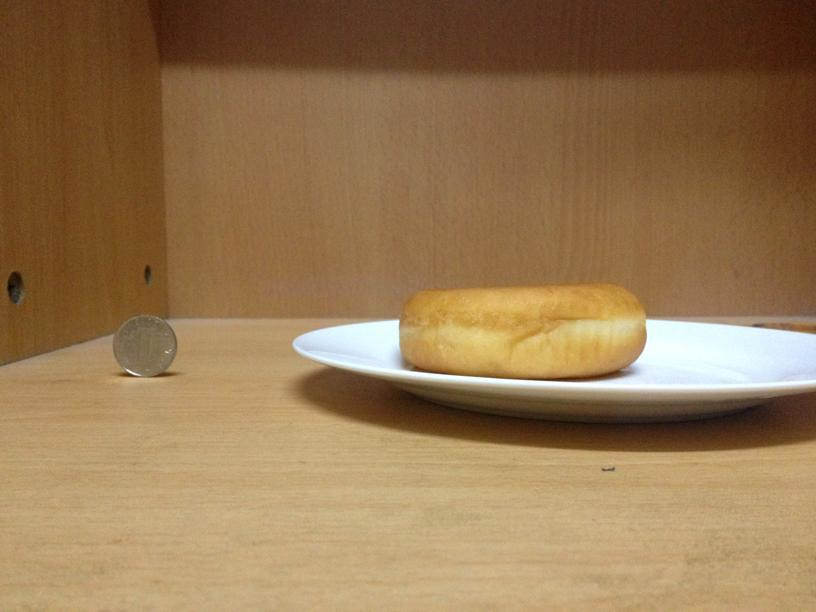coin: (109, 313, 179, 379)
doughnut: (399, 279, 647, 379)
